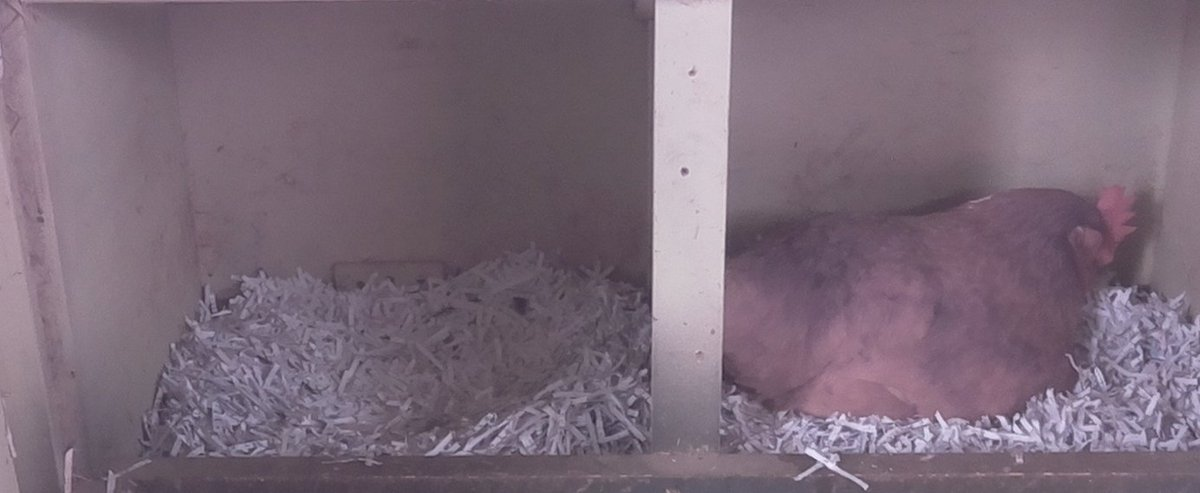hen: (727, 181, 1143, 426)
